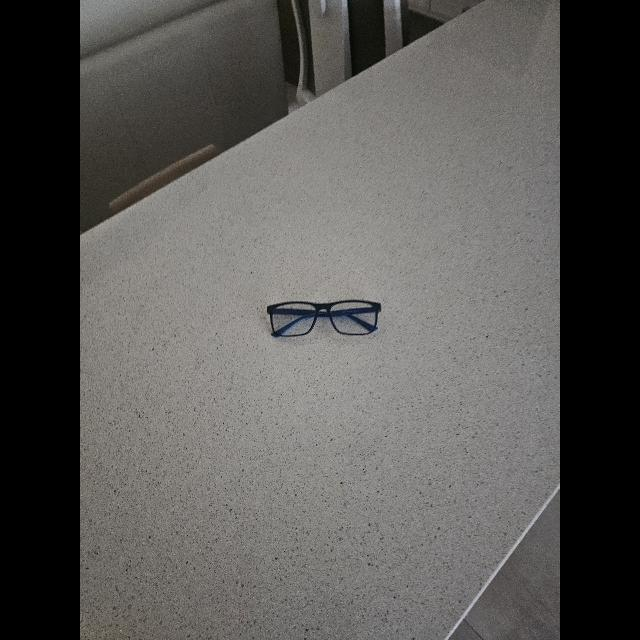glasses: (267, 300, 381, 336)
